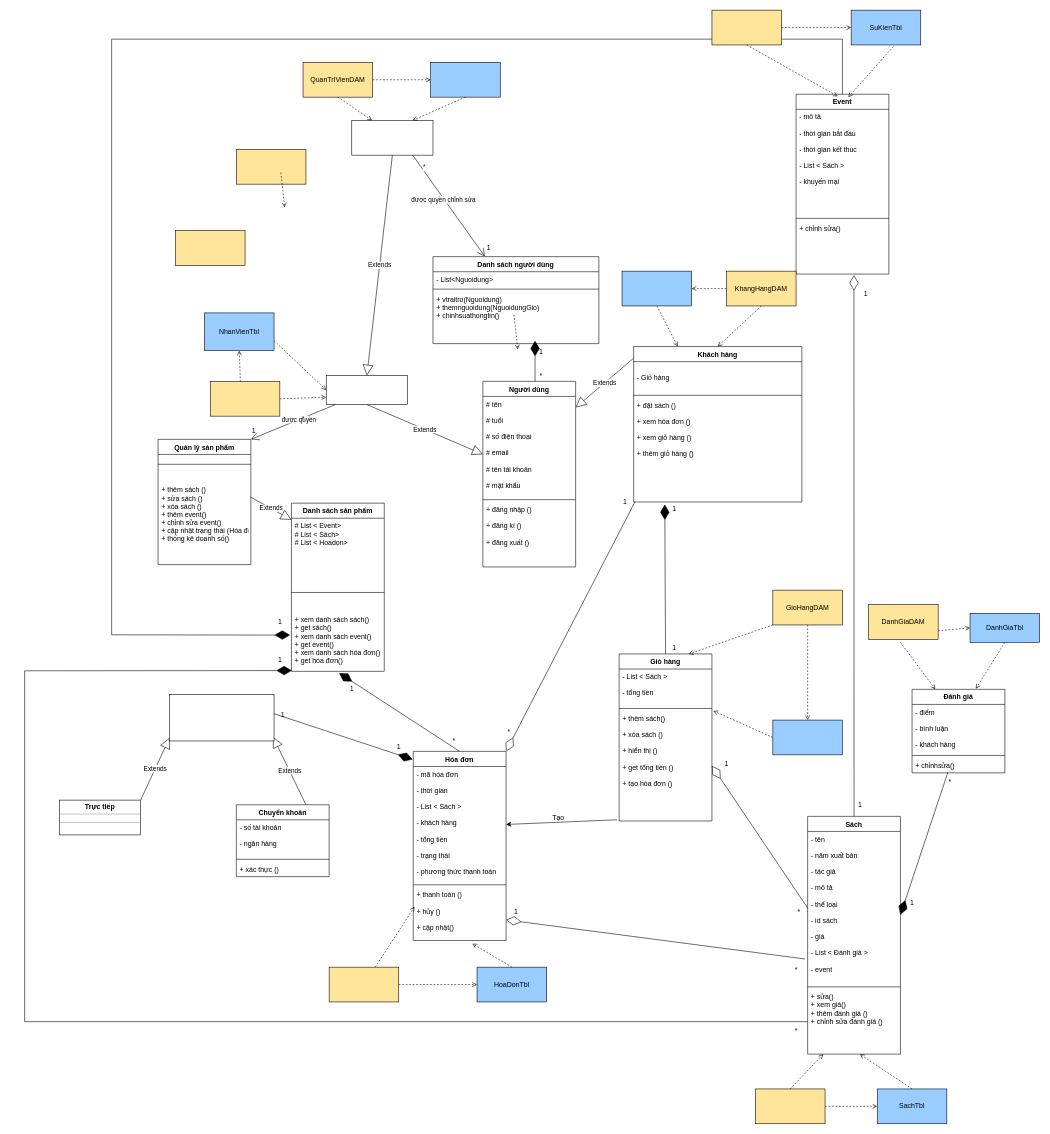
The diagram is 1050 pixels wide and 1134 high, and some of its shapes have lost their labels. Each missing label, with the centre of its shape:
GioHangTbl: pixel 807 737
HoaDonDAM: pixel 364 984
KhachHangTbl: pixel 656 288
NhanVienDAM: pixel 245 398
Nhân viên: pixel 366 390
QuanTriVienTbl: pixel 465 79
Quản trị viên: pixel 392 137
SachDAM: pixel 790 1106
SuKienDAM: pixel 746 27
«interface» Phương Thức Thanh Toán: pixel 221 717
